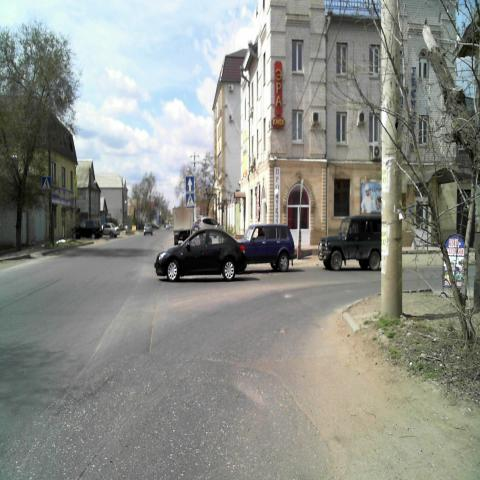5_5: (185, 176, 194, 192)
